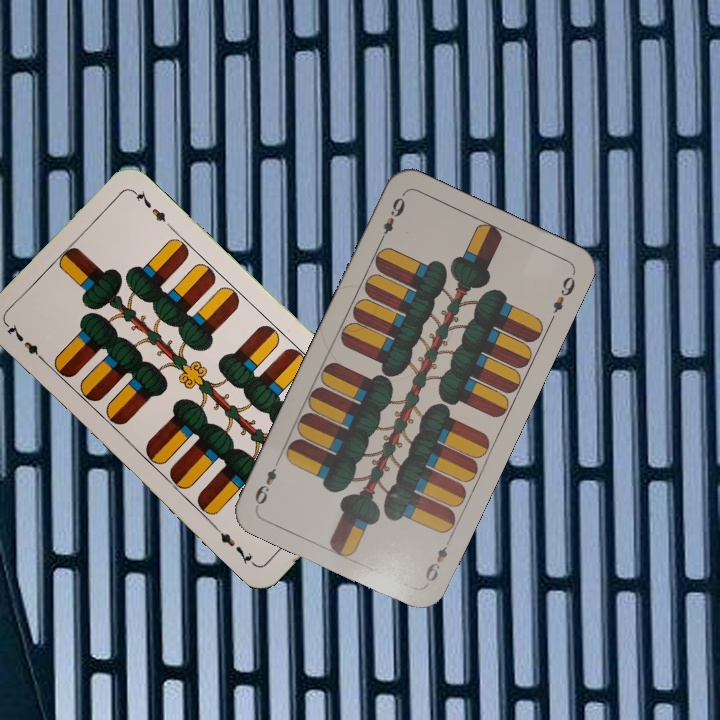E7: (3, 320, 49, 366)
E9: (375, 190, 408, 246), (421, 542, 450, 584)
